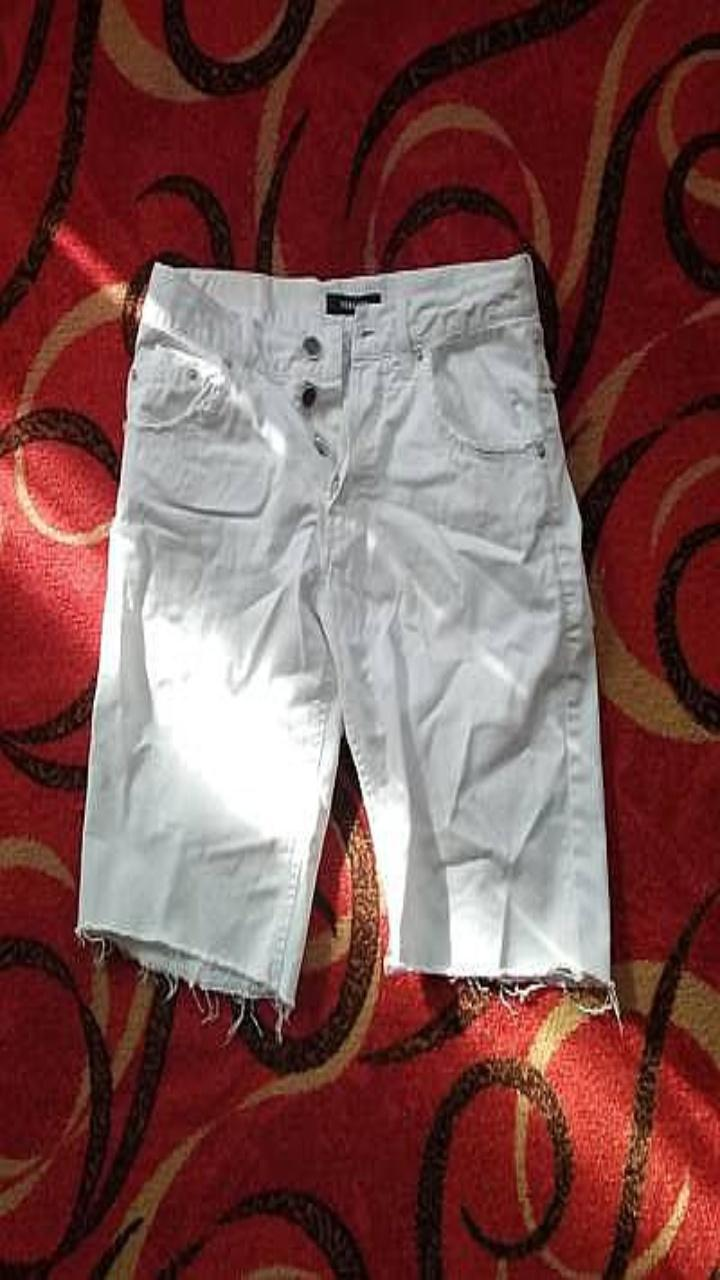Shorts: (78, 254, 611, 1011)
